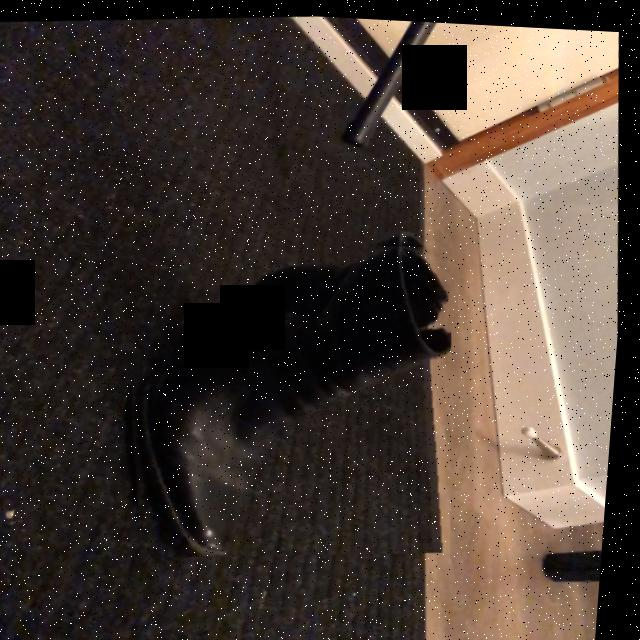shoe: (137, 239, 456, 554)
